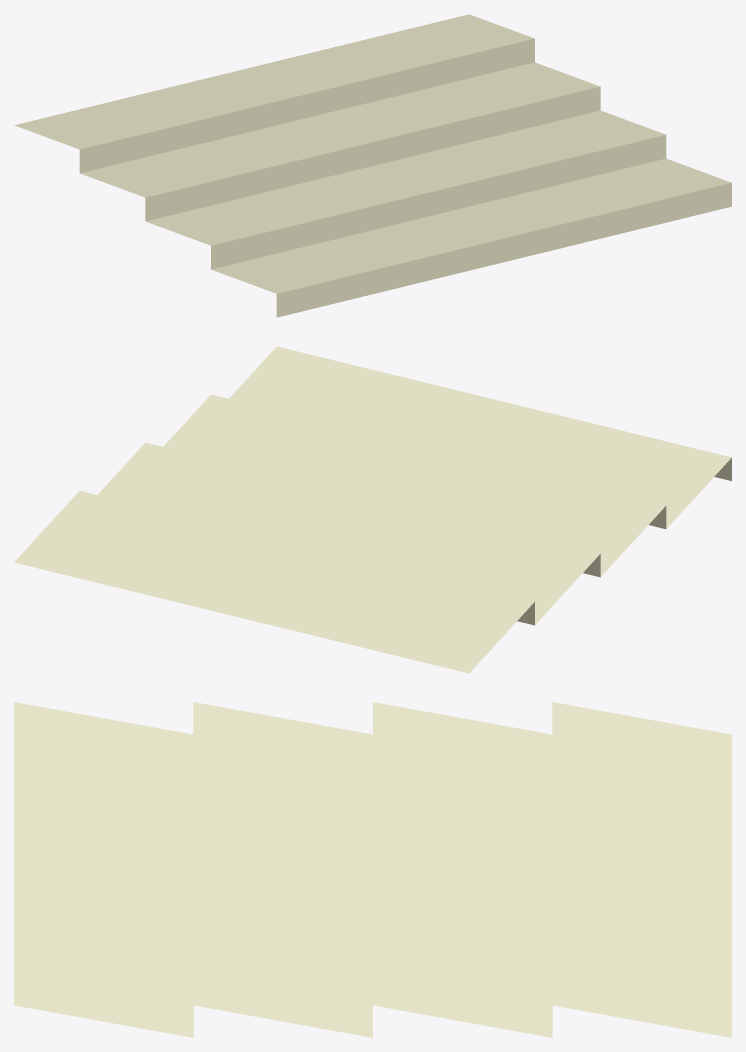
File: Roof_Tiles.glb
3 views of the same model, one above another, from view 1: azimuth 30°, elevation 25°; view 2: azimuth 150°, elevation 25°; view 3: azimuth 270°, elevation 25° (orthographic). The views are drawn at different scales.
Parts seen in each view (by area): view 1: Roof Tiles; view 2: Roof Tiles; view 3: Roof Tiles.
Boxes of the visible parts, x1,y1,x2,y2 form: Roof Tiles: (14, 14, 731, 317); Roof Tiles: (14, 346, 731, 673); Roof Tiles: (14, 702, 731, 1037).
Size of the model in its own units: 1 by 0.05 by 1.
